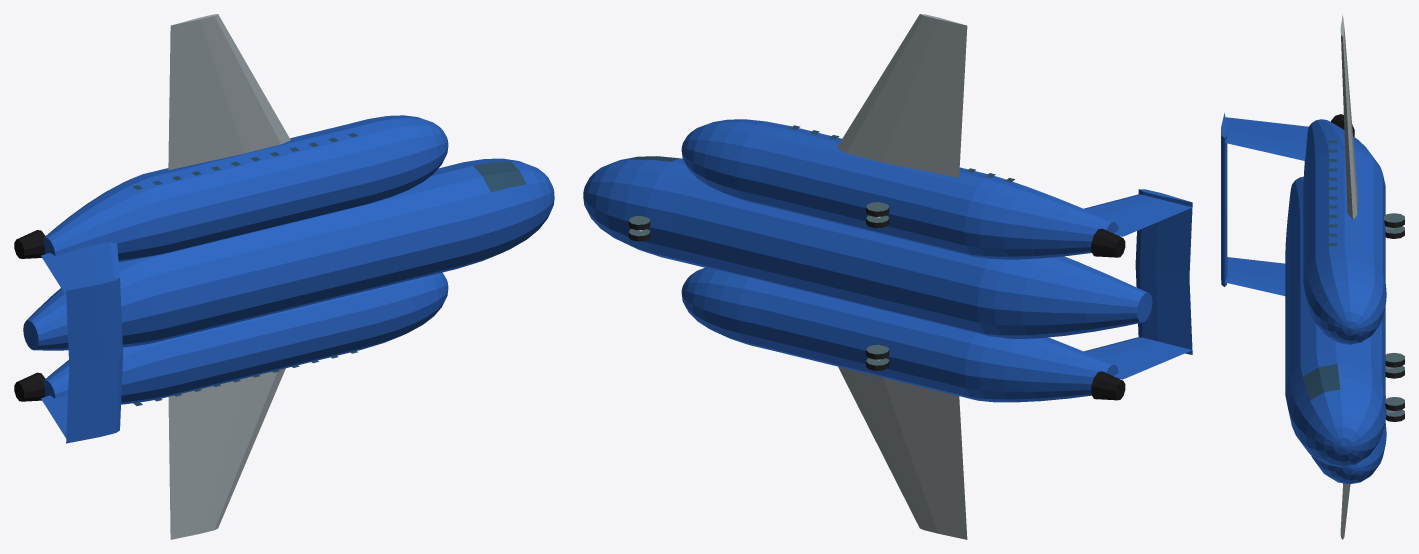
3 views of the same model, side by side, from view 1: azimuth 30°, elevation 25°; view 2: azimuth 150°, elevation 25°; view 3: azimuth 270°, elevation 25° (orthographic). The views are drawn at different scales.
Visible parts, largest first — view 1: default_fuselage, default_lobe1, default_lobe-1, default_wing1, default_wing-1, default_bar1, default_bar-1, default_fin11, default_nozzle12.15, default_nozzle-1-2.15; view 2: default_fuselage, default_lobe1, default_lobe-1, default_wing1, default_wing-1, default_bar-1, default_bar1, default_fin11, default_fin-11, default_nozzle12.15, default_nozzle-1-2.15; view 3: default_lobe1, default_fuselage, default_fin11, default_fin-11, default_wing1, default_lobe-1, default_bar1, default_bar-1, default_lobe_windows11, default_wing-1, default_main1_wheel0.17, default_main-1_wheel0.17 (+1 smaller).
Boxes of the visible parts, x1=… form: default_fuselage: x1=23, y1=158, x2=554, y2=350; default_lobe1: x1=43, y1=115, x2=448, y2=261; default_lobe-1: x1=43, y1=272, x2=448, y2=404; default_wing1: x1=168, y1=14, x2=290, y2=170; default_wing-1: x1=168, y1=368, x2=285, y2=539; default_bar1: x1=66, y1=277, x2=122, y2=366; default_bar-1: x1=66, y1=353, x2=123, y2=443; default_fin11: x1=41, y1=242, x2=119, y2=295; default_nozzle12.15: x1=14, y1=230, x2=45, y2=258; default_nozzle-1-2.15: x1=14, y1=372, x2=45, y2=401; default_fuselage: x1=583, y1=156, x2=1152, y2=338; default_lobe1: x1=681, y1=119, x2=1118, y2=259; default_lobe-1: x1=681, y1=267, x2=1118, y2=402; default_wing1: x1=837, y1=14, x2=967, y2=177; default_wing-1: x1=838, y1=366, x2=967, y2=539; default_bar-1: x1=1135, y1=265, x2=1192, y2=354; default_bar1: x1=1135, y1=189, x2=1192, y2=277; default_fin11: x1=1084, y1=194, x2=1192, y2=236; default_fin-11: x1=1084, y1=337, x2=1192, y2=379; default_nozzle12.15: x1=1091, y1=228, x2=1125, y2=257; default_nozzle-1-2.15: x1=1091, y1=371, x2=1125, y2=400; default_lobe1: x1=1303, y1=119, x2=1386, y2=344; default_fuselage: x1=1285, y1=176, x2=1386, y2=467; default_fin11: x1=1225, y1=117, x2=1308, y2=160; default_fin-11: x1=1225, y1=257, x2=1285, y2=295; default_wing1: x1=1340, y1=14, x2=1357, y2=219; default_lobe-1: x1=1311, y1=421, x2=1386, y2=484; default_bar1: x1=1221, y1=113, x2=1227, y2=213; default_bar-1: x1=1221, y1=207, x2=1227, y2=286; default_lobe_windows11: x1=1328, y1=140, x2=1337, y2=245; default_wing-1: x1=1340, y1=483, x2=1350, y2=539; default_main1_wheel0.17: x1=1384, y1=213, x2=1404, y2=227; default_main-1_wheel0.17: x1=1385, y1=353, x2=1404, y2=367.
Size of the model in its own units: 17.2 by 15.5 by 5.14.
